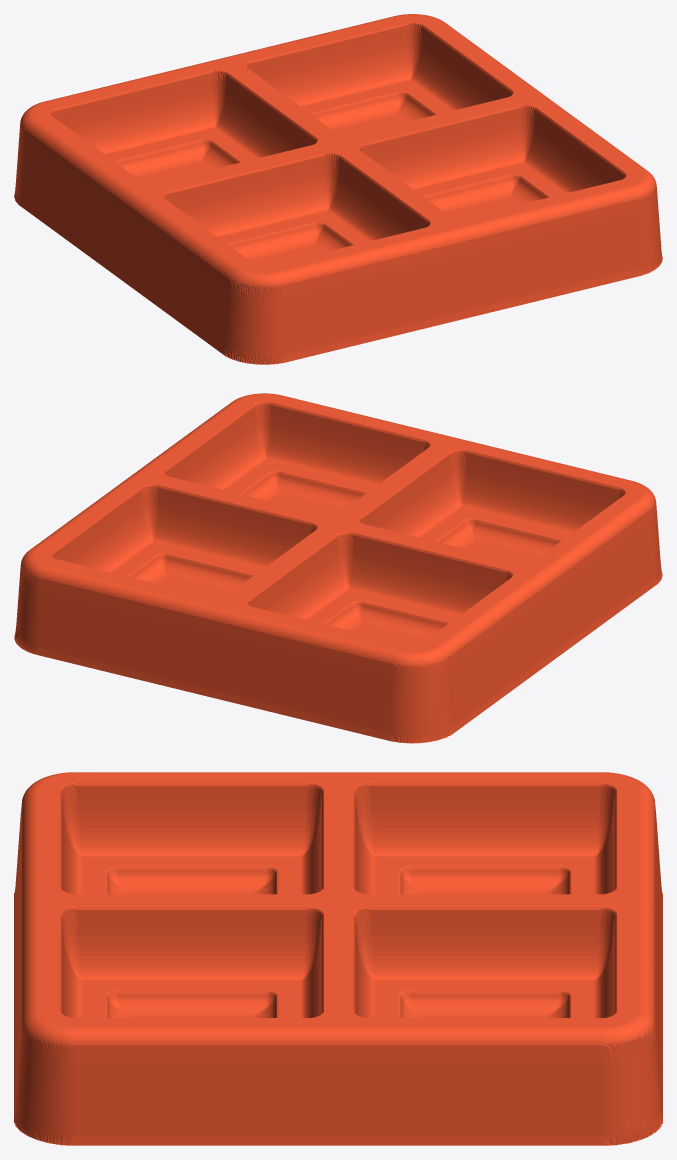
Rendered from mold.glb.
The picture shows the model from 3 angles, top to bottom: view 1: azimuth 30°, elevation 25°; view 2: azimuth 150°, elevation 25°; view 3: azimuth 270°, elevation 25°; orthographic projection. The views are drawn at different scales.
Visible parts, largest first — view 1: geometry_0; view 2: geometry_0; view 3: geometry_0.
Part boxes in pixels (x1,y1,x2,y2): geometry_0: (14, 14, 662, 364); geometry_0: (14, 393, 662, 743); geometry_0: (14, 772, 662, 1145).
Bounding box in the file's own units: 0.0952 × 0.0175 × 0.0952.
